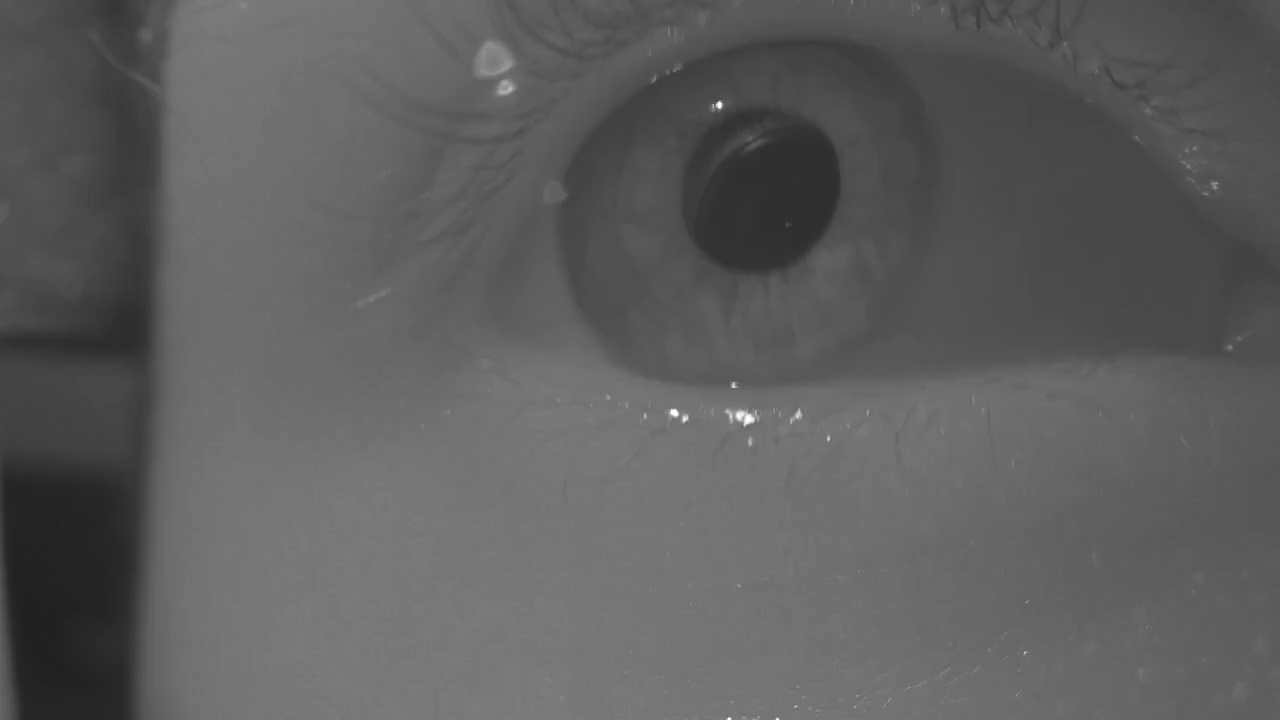pupil: (681, 107, 840, 269)
